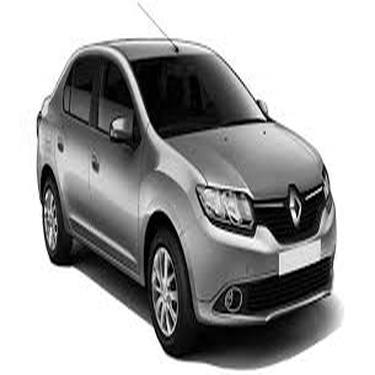car: (22, 21, 345, 333)
